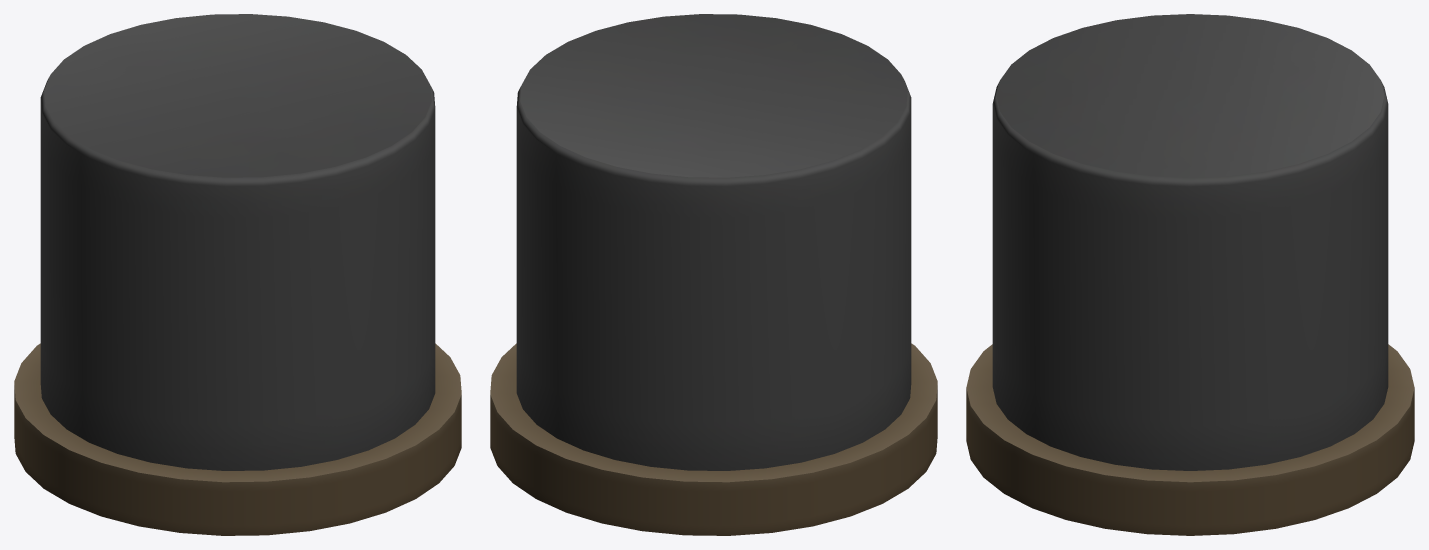
File: Base_Rnd_1x1.fbx
3 views of the same model, side by side, from view 1: azimuth 30°, elevation 25°; view 2: azimuth 150°, elevation 25°; view 3: azimuth 270°, elevation 25° (orthographic).
Visible parts, largest first — view 1: Base_Rnd_1x1; view 2: Base_Rnd_1x1; view 3: Base_Rnd_1x1.
Part boxes in pixels (x1,y1,x2,y2): Base_Rnd_1x1: (14,14,461,535); Base_Rnd_1x1: (490,14,937,535); Base_Rnd_1x1: (966,14,1414,535).
Bounding box in the file's own units: 87.63 × 74.48 × 87.63.
